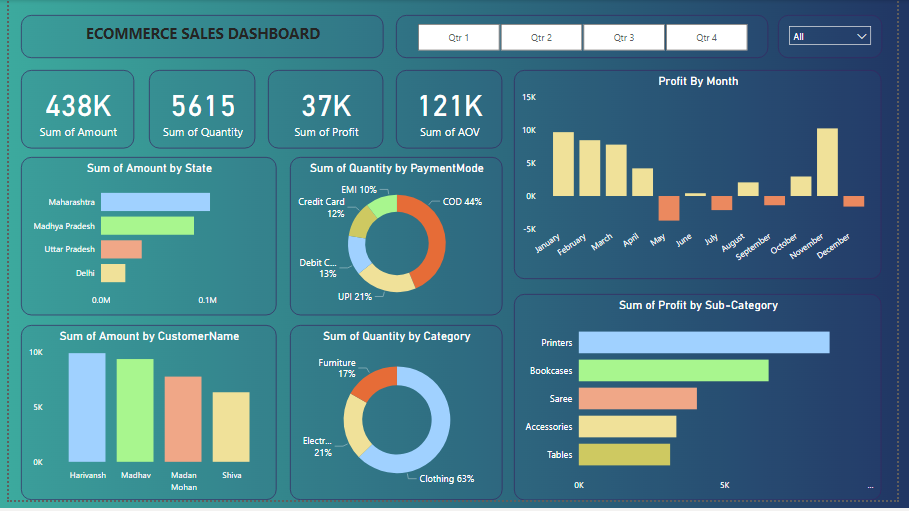

What the dashboard file says about the page in this screenshot:
{"tool":"powerbi","page":{"name":"Page 1","canvas":[1280,720],"ordinal":0},"visuals":[{"type":"textbox","box":[16.8,21.8,522.4,62.2],"z":0},{"type":"columnChart","title":"Profit By Month","fields":{"Y":["Sum(Details.Profit)"],"Category":["Orders.Order Date.Variation.Date Hierarchy.Month"]},"box":[727.3,100.8,529.1,300.7],"z":1000},{"type":"barChart","fields":{"Category":["Details.Sub-Category"],"Y":["Sum(Details.Profit)"]},"box":[727.3,423.3,529.1,297.3],"z":2000},{"type":"donutChart","fields":{"Category":["Details.Category"],"Y":["Sum(Details.Quantity)"]},"box":[404.8,468.7,305.7,252],"z":3000},{"type":"donutChart","fields":{"Y":["Sum(Details.Quantity)"],"Category":["Details.PaymentMode"]},"box":[404.8,226.8,305.7,228.5],"z":4000},{"type":"card","fields":{"Values":["Sum(Details.Amount)"]},"box":[16.8,100.8,162.9,112.5],"z":5000},{"type":"card","fields":{"Values":["Sum(Details.Quantity)"]},"box":[201.6,100.8,152.9,112.5],"z":6000},{"type":"card","fields":{"Values":["Sum(Details.Profit)"]},"box":[372.9,100.8,166.3,112.5],"z":7000},{"type":"card","fields":{"Values":["Sum(Details.AOV)"]},"box":[557.7,100.8,152.9,112.5],"z":8000},{"type":"barChart","fields":{"Category":["Orders.State"],"Y":["Sum(Details.Amount)"]},"box":[16.8,226.8,367.9,228.5],"z":9000},{"type":"columnChart","fields":{"Category":["Orders.CustomerName"],"Y":["Sum(Details.Amount)"]},"box":[16.8,468.7,367.9,252],"z":10000},{"type":"slicer","fields":{"Values":["Orders.Order Date.Variation.Date Hierarchy.Quarter"]},"box":[557.7,21.8,535.9,62.2],"z":11000},{"type":"slicer","fields":{"Values":["Orders.State"]},"box":[1107,21.8,149.5,62.2],"z":12000}]}

Visuals, with their boxes in screenshot pixels (x1, y1, x2, y2), scaled from the page's 1280x720 canvas onto the 909x511 screenshot:
textbox: bbox=(12, 15, 383, 60)
"Profit By Month" columnChart: bbox=(516, 72, 892, 285)
barChart - Details.Sub-Category x Sum(Details.Profit): bbox=(516, 300, 892, 510)
donutChart - Details.Category x Sum(Details.Quantity): bbox=(287, 333, 505, 510)
donutChart - Sum(Details.Quantity) x Details.PaymentMode: bbox=(287, 161, 505, 323)
card - Sum(Details.Amount): bbox=(12, 72, 128, 151)
card - Sum(Details.Quantity): bbox=(143, 72, 252, 151)
card - Sum(Details.Profit): bbox=(265, 72, 383, 151)
card - Sum(Details.AOV): bbox=(396, 72, 505, 151)
barChart - Orders.State x Sum(Details.Amount): bbox=(12, 161, 273, 323)
columnChart - Orders.CustomerName x Sum(Details.Amount): bbox=(12, 333, 273, 510)
slicer - Orders.Order Date.Variation.Date Hierarchy.Quarter: bbox=(396, 15, 777, 60)
slicer - Orders.State: bbox=(786, 15, 892, 60)
